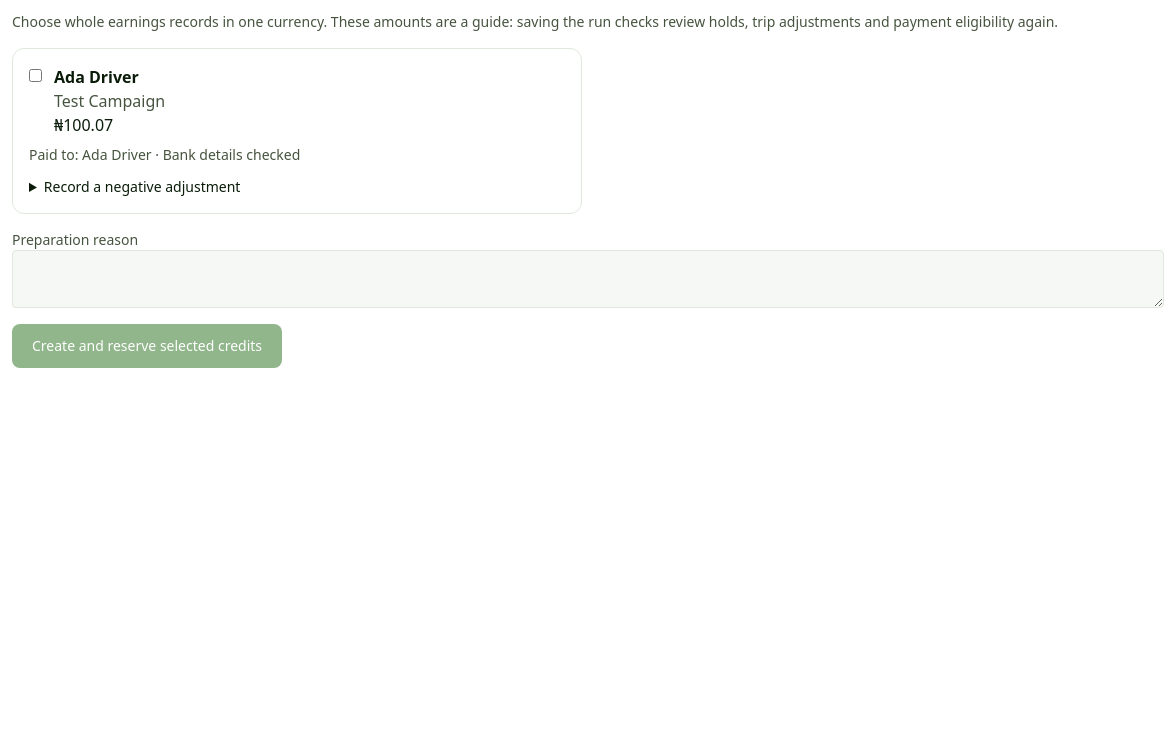
it: payout form states › links the confirmed batch and clears recovery only when the operator starts again
This screenshot has width=1176, height=732.
Type "Staff payment review" into the text box labelled "Preparation reason".
click(588, 279); type("Staff payment review")  # box x1=12 y1=250 x2=1164 y2=308
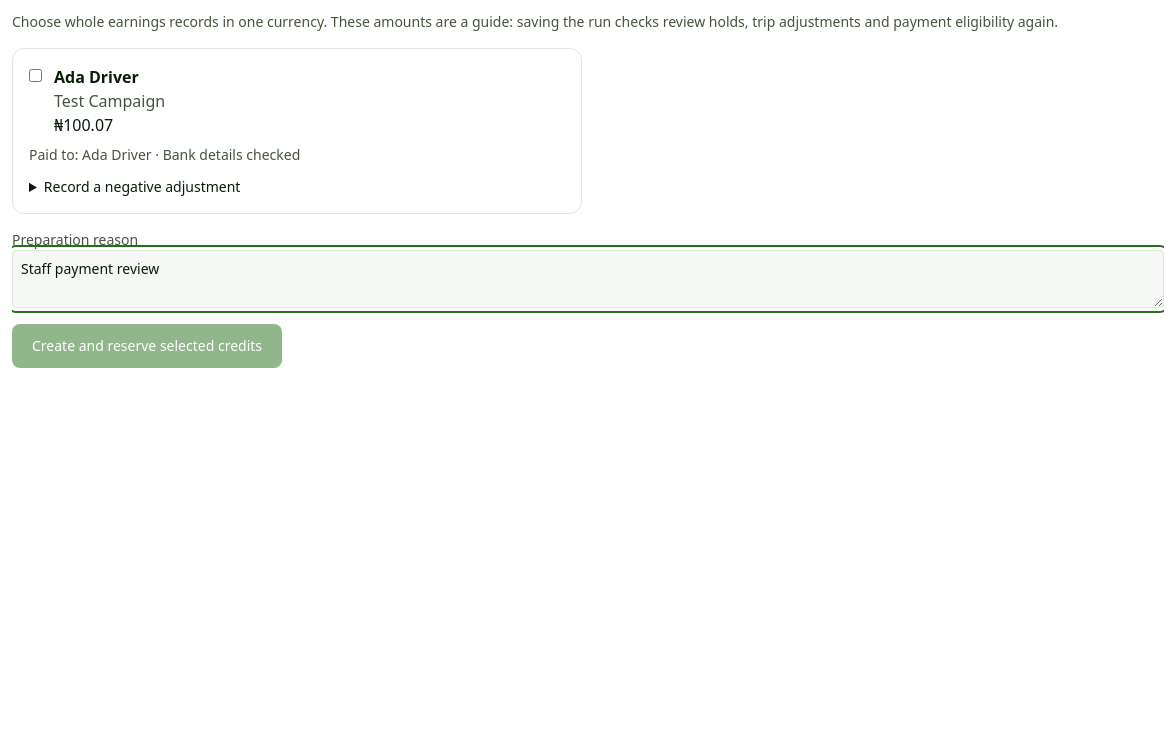
Click the checkbox.
click(36, 76)  # box x1=29 y1=69 x2=42 y2=82
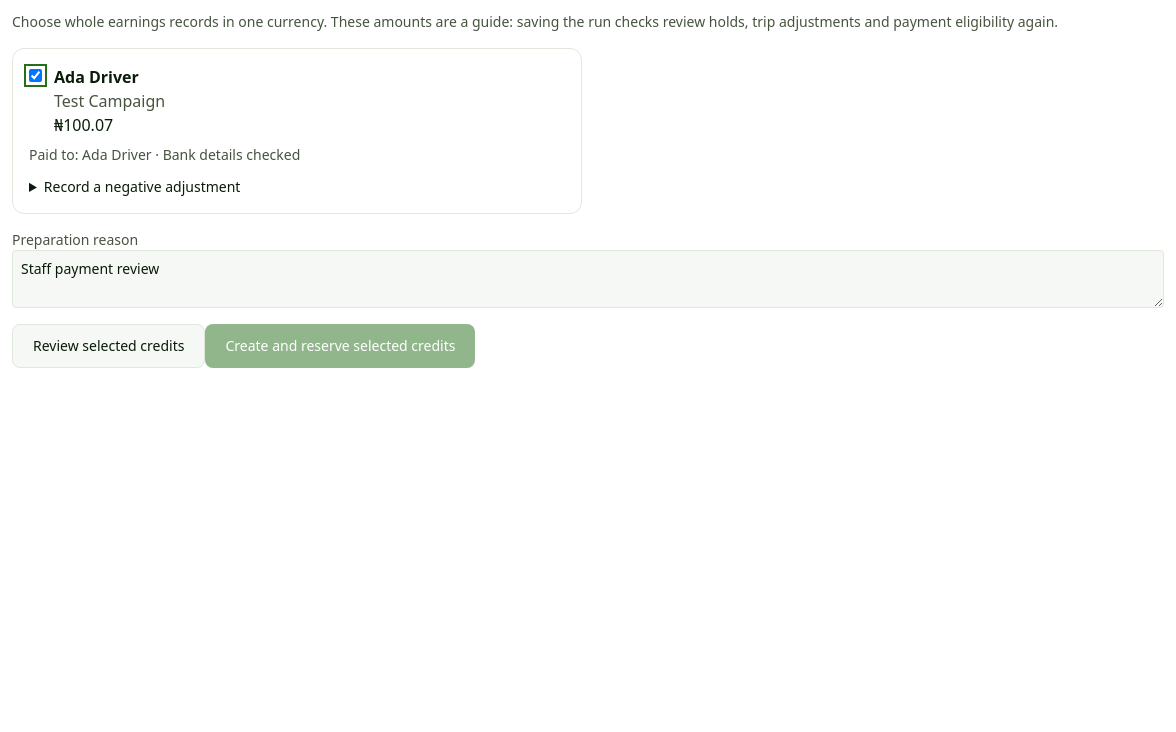
Check: the button "Review selected credits" is enabled
Click the button "Review selected credits".
click(109, 346)  # box x1=12 y1=324 x2=205 y2=368
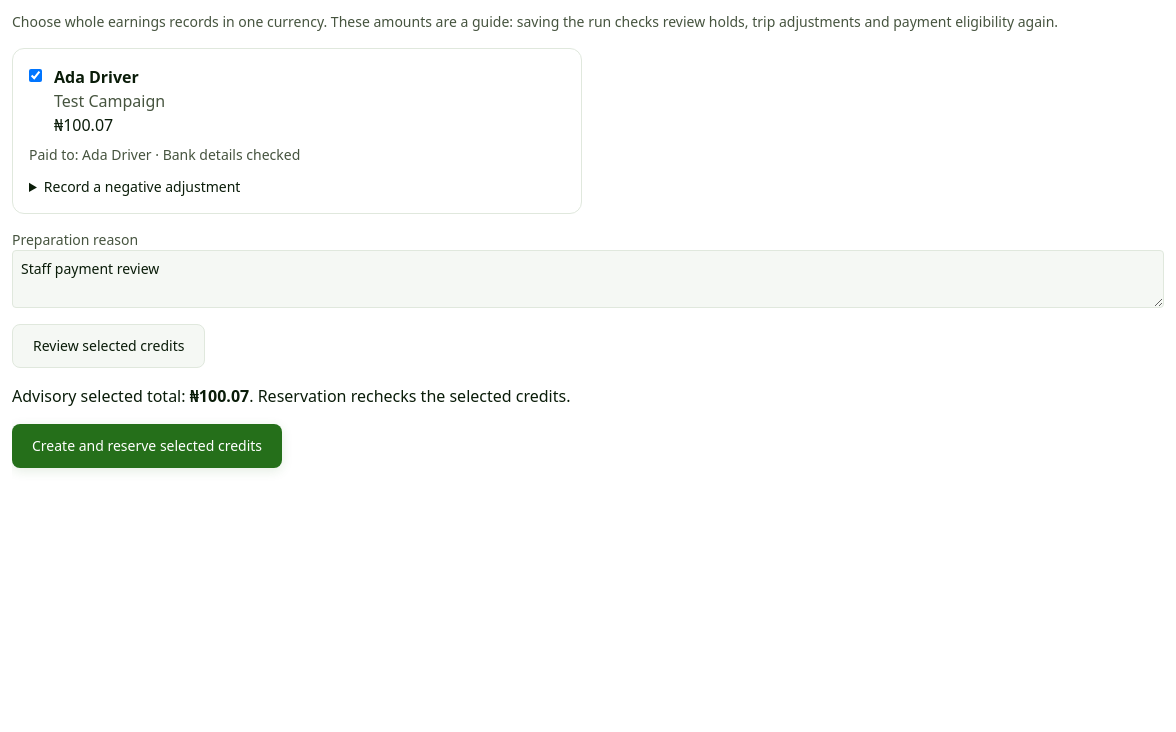
Check: the text "Advisory selected total" is shown, box x1=12 y1=385 x2=186 y2=407
Check: the button "Create and reserve selected credits" is enabled
Click the button "Create and reserve selected credits".
click(147, 446)  # box x1=12 y1=424 x2=282 y2=468
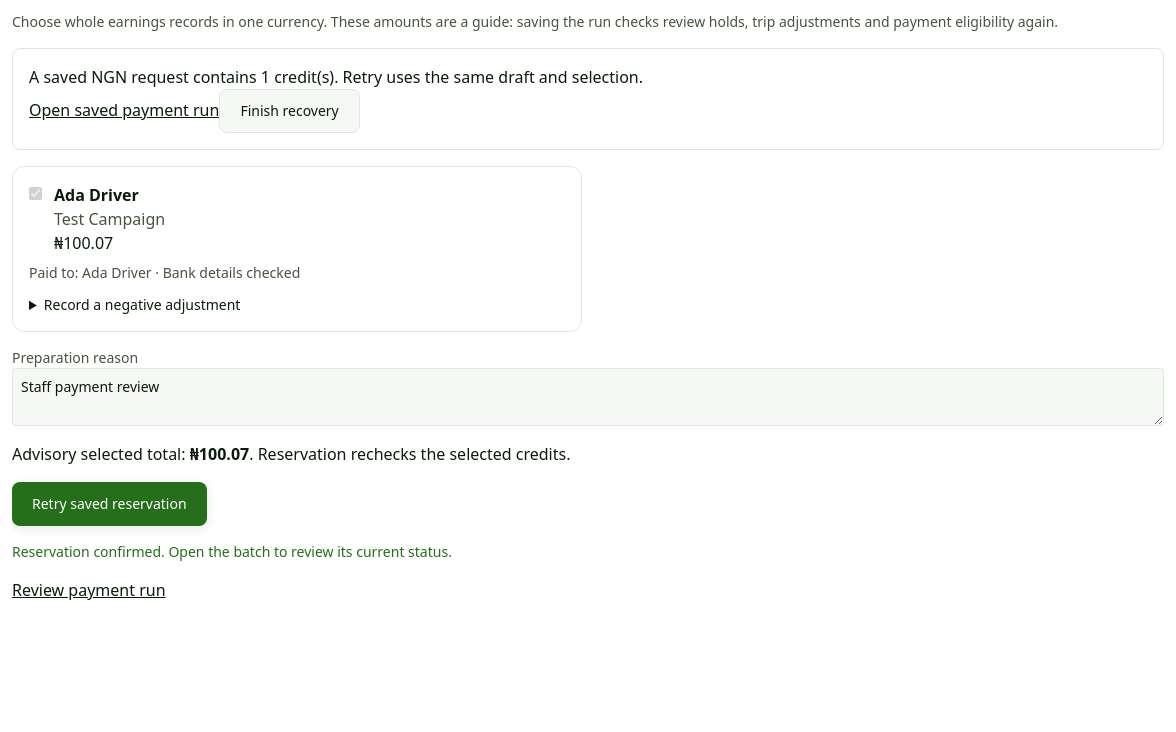
Check: the button "Finish recovery" is enabled
Check: the message shows "Reservation confirmed", box x1=12 y1=542 x2=452 y2=561
Click the button "Finish recovery".
click(290, 111)  # box x1=219 y1=89 x2=360 y2=133
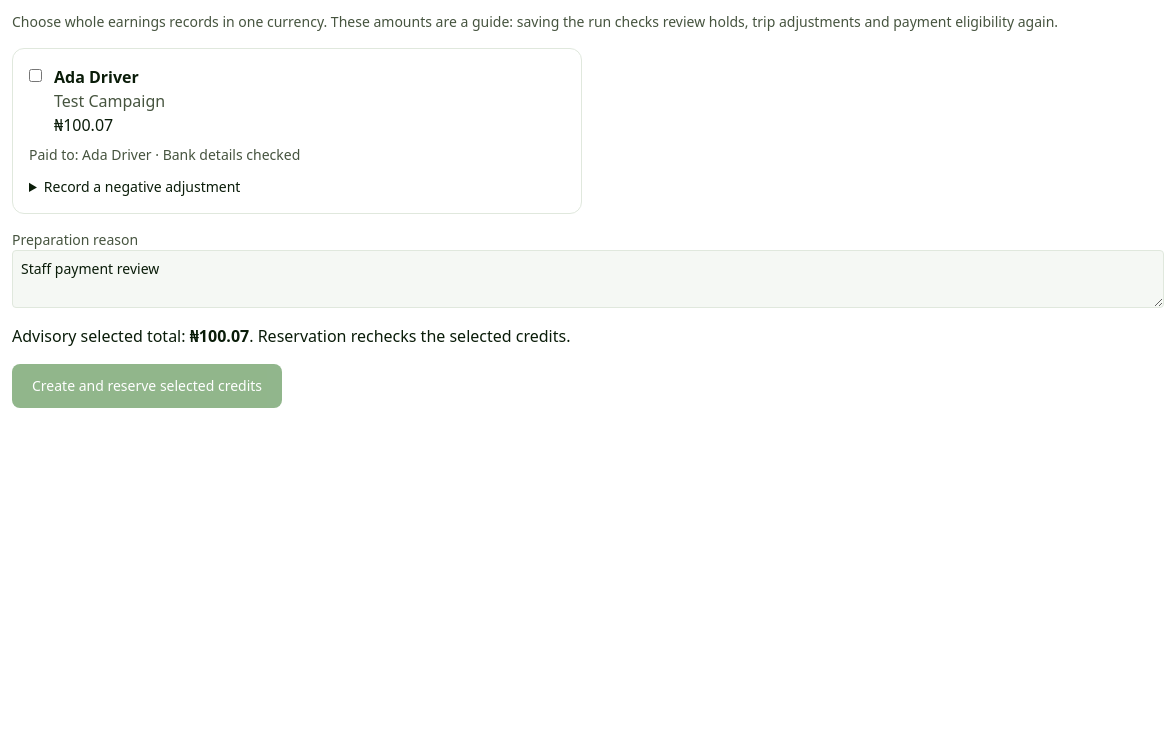
Check: the checkbox is not checked, box x1=29 y1=69 x2=42 y2=82
Check: the message "Reservation confirmed. Open the batch to review its current status." is gone
